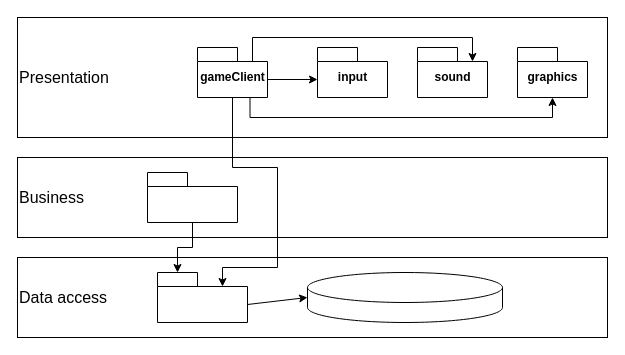
This 625x355 diagram has some shape labels left out. Each missing label, with the centre of its shape:
"Firebase realtime database" belongs at point (404, 297).
"gameServer" belongs at point (192, 197).
"networking" belongs at point (202, 297).
